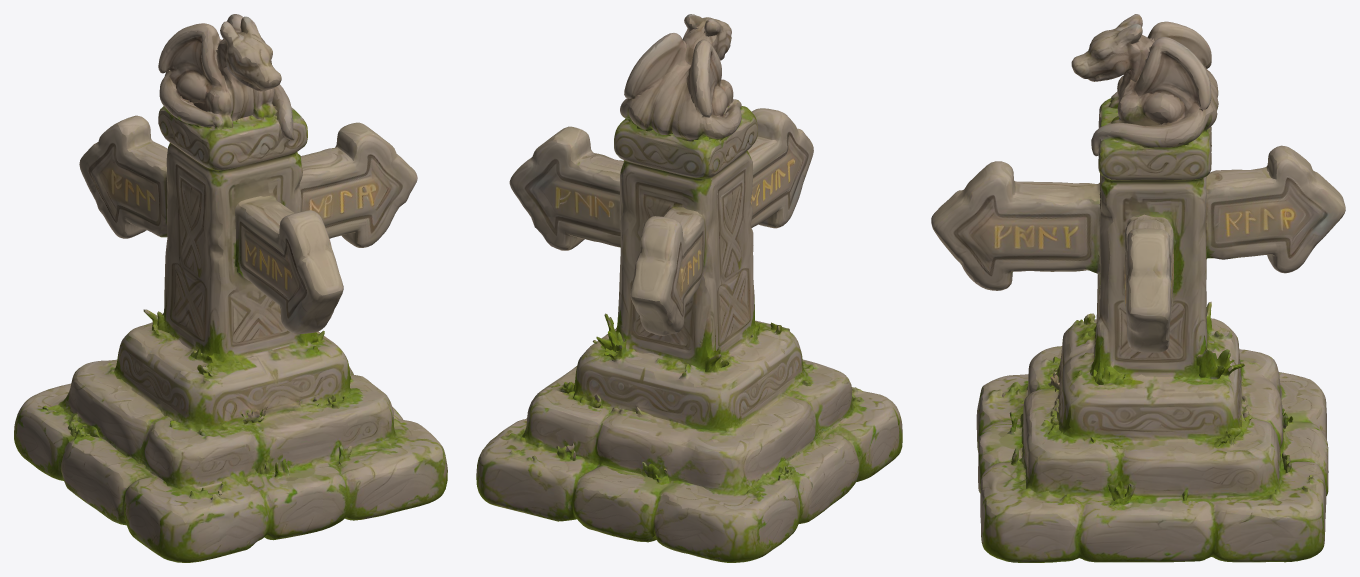
Rendered from blueprint.trail_marker.glb.
3 views of the same model, side by side, from view 1: azimuth 30°, elevation 25°; view 2: azimuth 150°, elevation 25°; view 3: azimuth 270°, elevation 25° (orthographic). The views are drawn at different scales.
Visible parts, largest first — view 1: textured_mesh.obj; view 2: textured_mesh.obj; view 3: textured_mesh.obj.
Part boxes in pixels (left/top/right/bottom): textured_mesh.obj: left=14, top=14, right=447, bottom=562; textured_mesh.obj: left=476, top=14, right=902, bottom=562; textured_mesh.obj: left=931, top=14, right=1345, bottom=562.
Bounding box in the file's own units: 1.46 × 1.99 × 1.58.
1 material, 1 textured.
